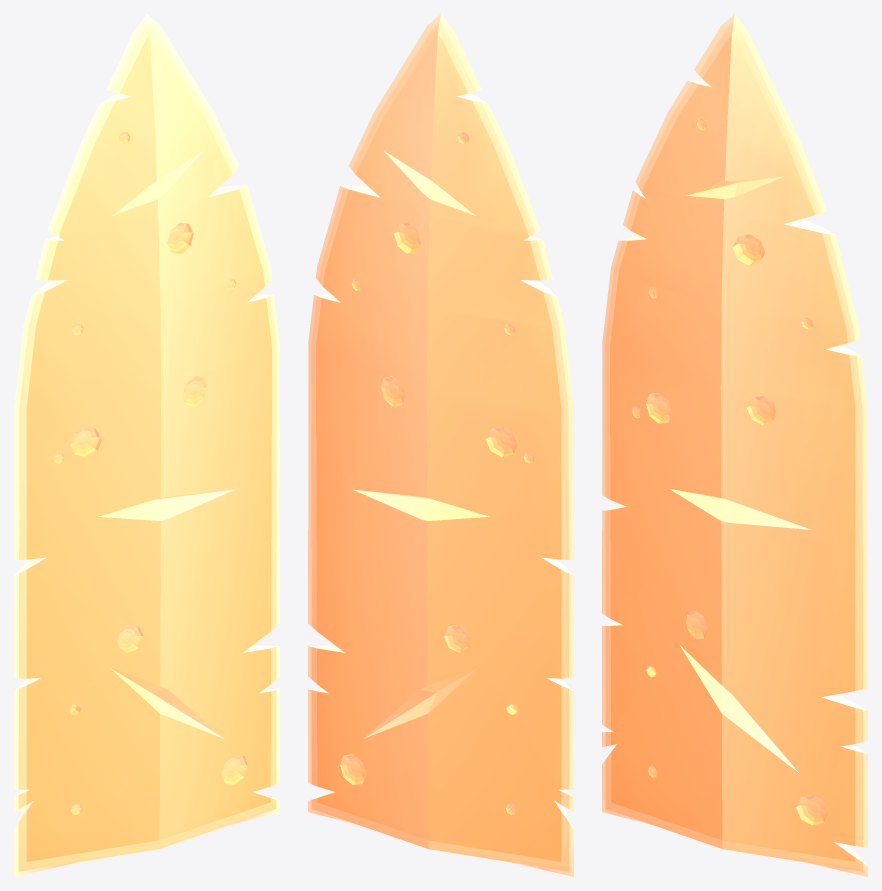
File: wood_blade_bubbles_076.glb
The picture shows the model from 3 angles, left to right: view 1: azimuth 30°, elevation 25°; view 2: azimuth 150°, elevation 25°; view 3: azimuth 330°, elevation 25°; orthographic projection.
Parts seen in each view (by area): view 1: wood_blade_bubbles.076; view 2: wood_blade_bubbles.076; view 3: wood_blade_bubbles.076.
Boxes of the visible parts, x1,y1,x2,y2 form: wood_blade_bubbles.076: (14, 14, 279, 876); wood_blade_bubbles.076: (308, 14, 573, 876); wood_blade_bubbles.076: (602, 14, 867, 876).
Size of the model in its own units: 3.82 by 11.43 by 0.706.
Materials: 1 (1 with a texture image).
